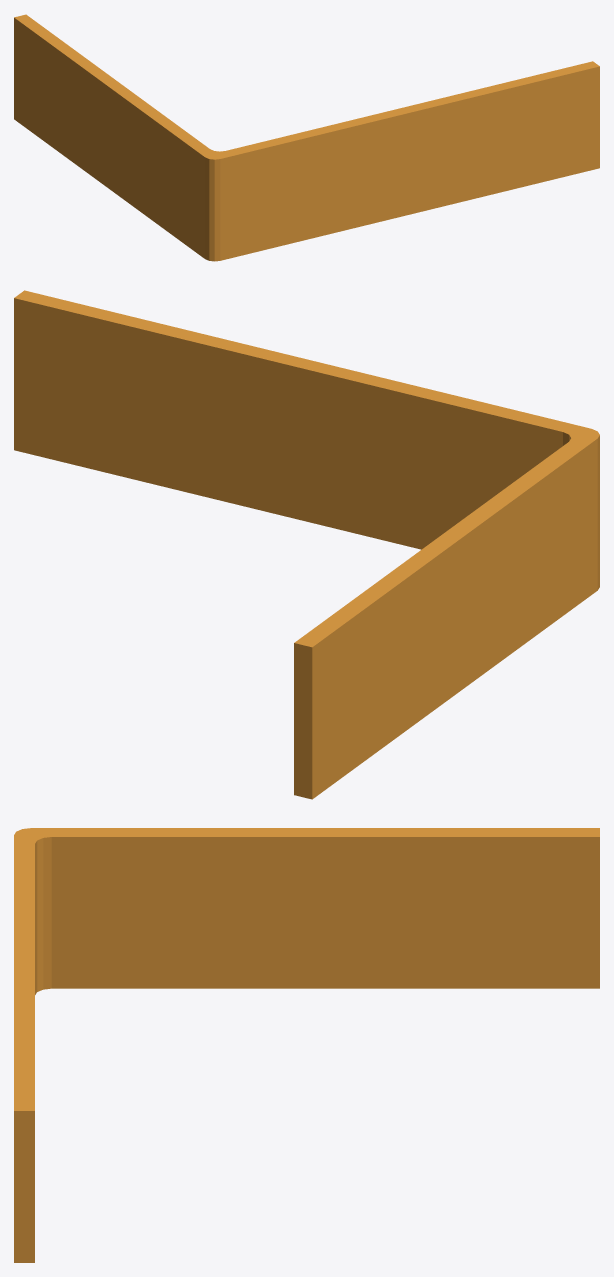
Rendered from lblock.dae.
3 renders of one model, top to bottom at view 1: azimuth 30°, elevation 25°; view 2: azimuth 150°, elevation 25°; view 3: azimuth 270°, elevation 25°, orthographic. The views are drawn at different scales.
Visible parts, largest first — view 1: Lblocks; view 2: Lblocks; view 3: Lblocks.
Part boxes in pixels (x1,y1,x2,y2): Lblocks: [14, 14, 599, 261]; Lblocks: [14, 290, 599, 799]; Lblocks: [14, 828, 599, 1262].
Size of the model in its own units: 4 by 3.5 by 1.
